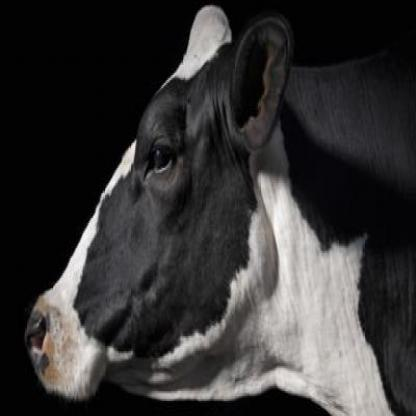mouth: (22, 288, 107, 402)
upper: (52, 324, 66, 337)
